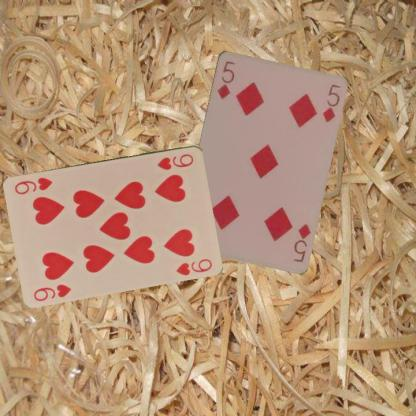5d: (214, 58, 236, 100), (290, 221, 312, 263)
9h: (31, 281, 73, 302), (154, 151, 195, 171)
